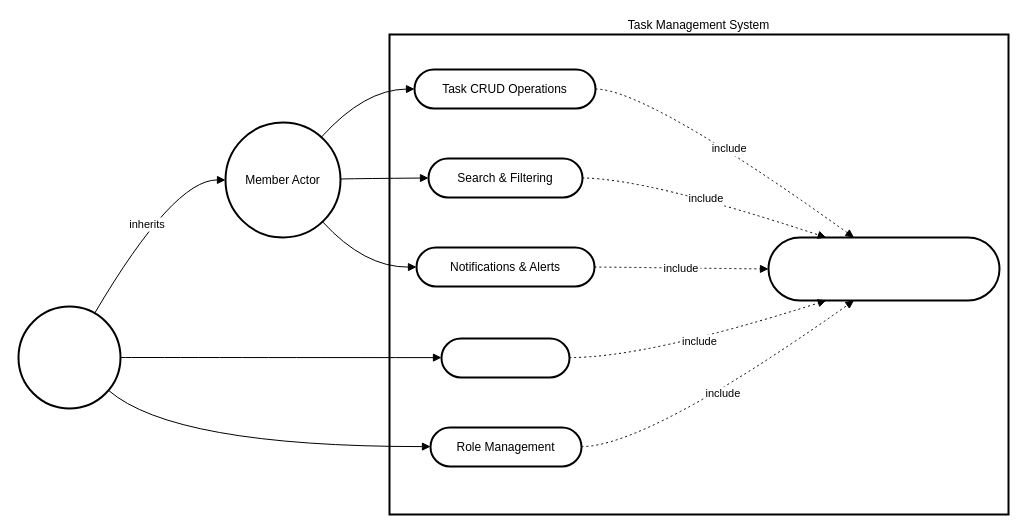
The diagram is 1026 pixels wide and 532 high, and some of its shapes have lost their labels. Here are the shapes that lost their labels. From the top down, the centre of each, then its label:
point (883, 268): Registration & Authentication
point (69, 357): Admin Actor
point (505, 357): User Overview
